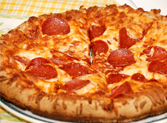sandwich: (0, 4, 167, 119)
